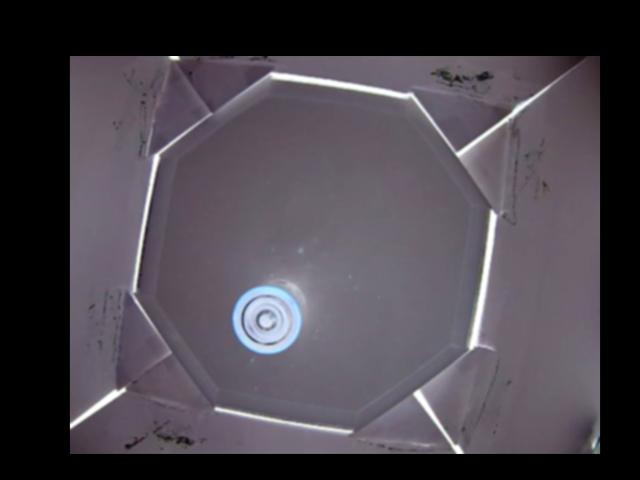Battery: (233, 281, 305, 350)
